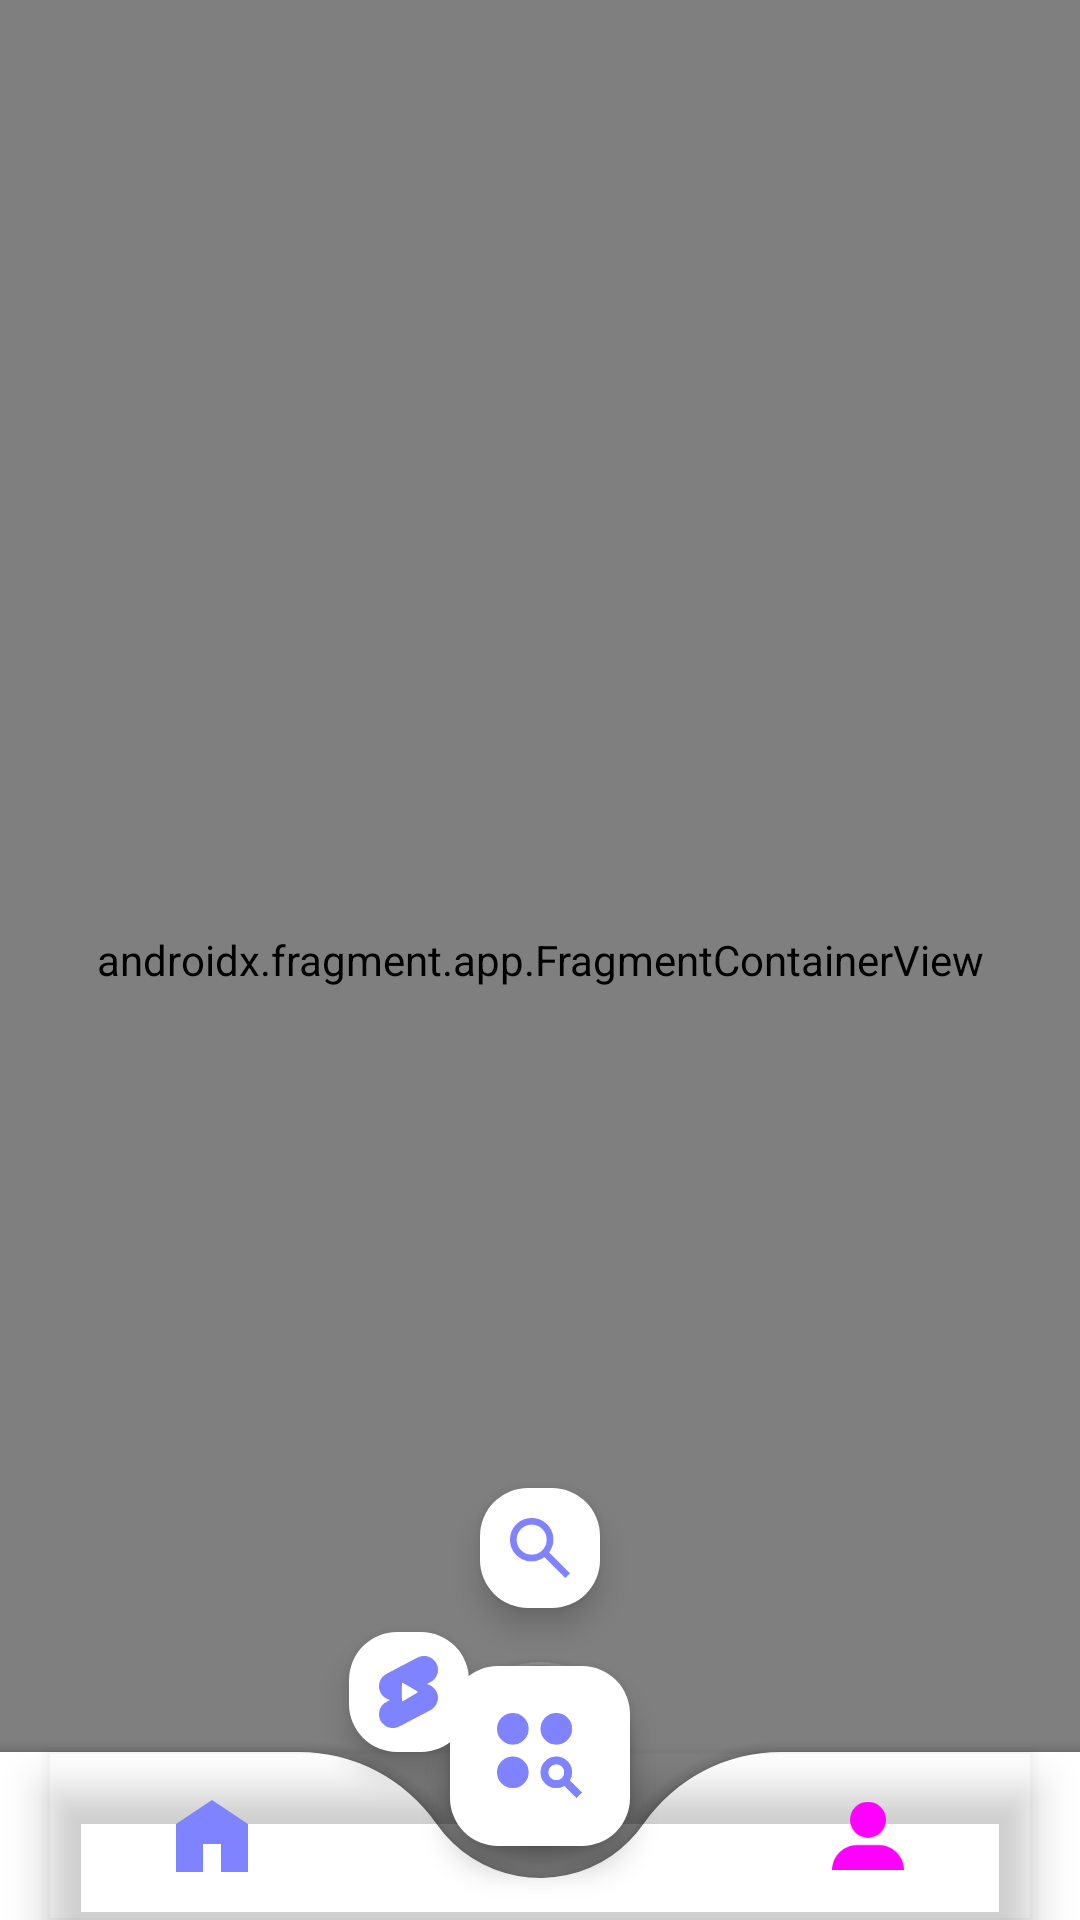

Locate icon controls on the screen. Image size 1080w x 1920h, boxes as (x1, y1, x2, y2).
fab search: (480, 1488, 600, 1608)
